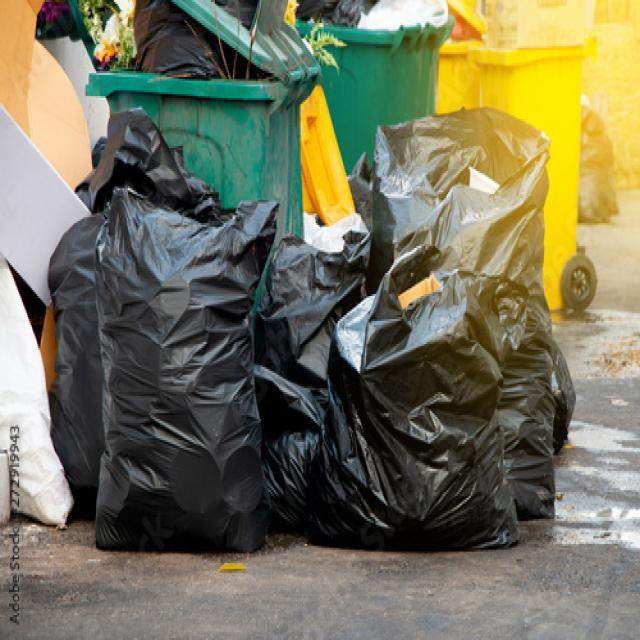trash: (105, 152, 539, 536), (52, 209, 102, 462), (118, 8, 204, 75)
